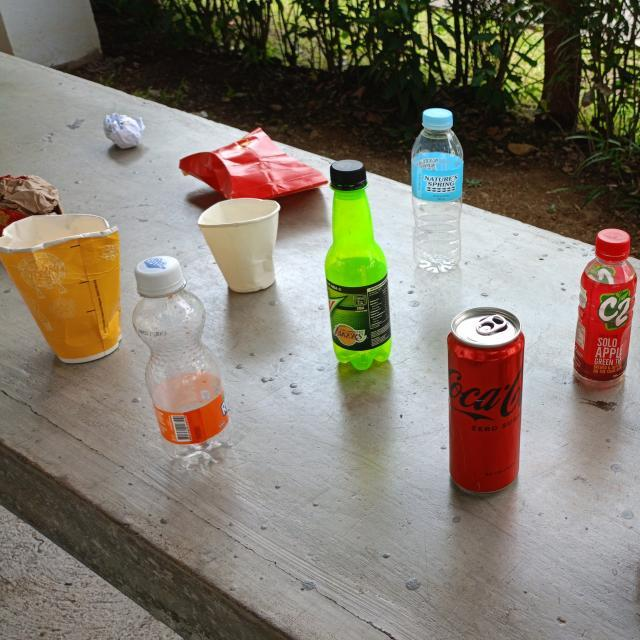recyclable waste: (124, 245, 242, 475), (0, 208, 133, 370), (314, 147, 402, 378), (436, 298, 532, 507), (563, 218, 640, 402), (403, 102, 470, 279), (194, 188, 288, 298), (0, 167, 69, 238), (94, 106, 150, 153)
